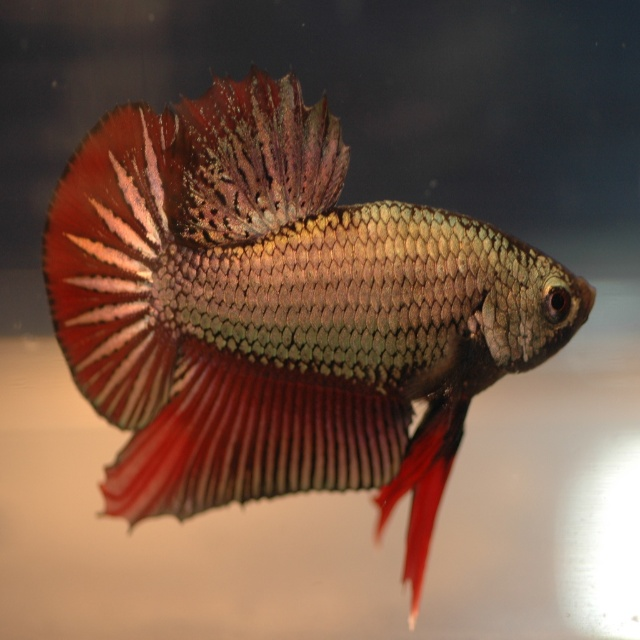Fish: (43, 65, 596, 629)
